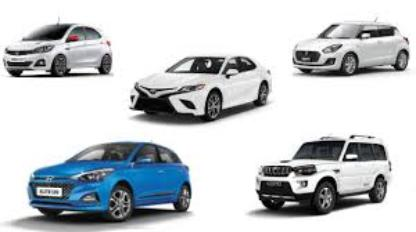car: (19, 137, 205, 223), (250, 130, 402, 220), (123, 47, 275, 126), (0, 12, 118, 94), (291, 13, 415, 82)
